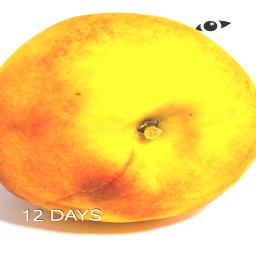Peach Unripe: (1, 10, 256, 229)
